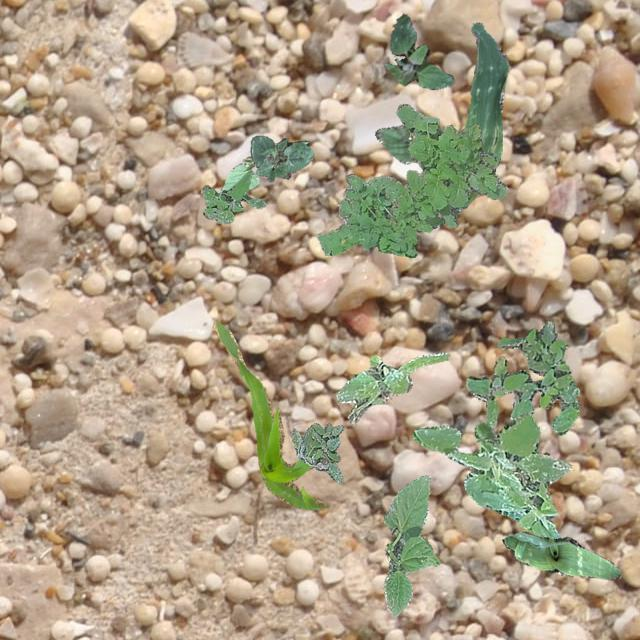crop: (212, 321, 326, 508), (424, 21, 508, 228), (382, 474, 438, 616), (374, 124, 482, 192), (500, 530, 620, 578), (220, 140, 308, 190), (250, 134, 312, 180)
weed: (316, 102, 507, 256), (412, 410, 570, 538), (464, 320, 578, 434), (336, 350, 448, 422), (383, 12, 452, 88), (200, 170, 264, 222), (290, 422, 342, 482)
